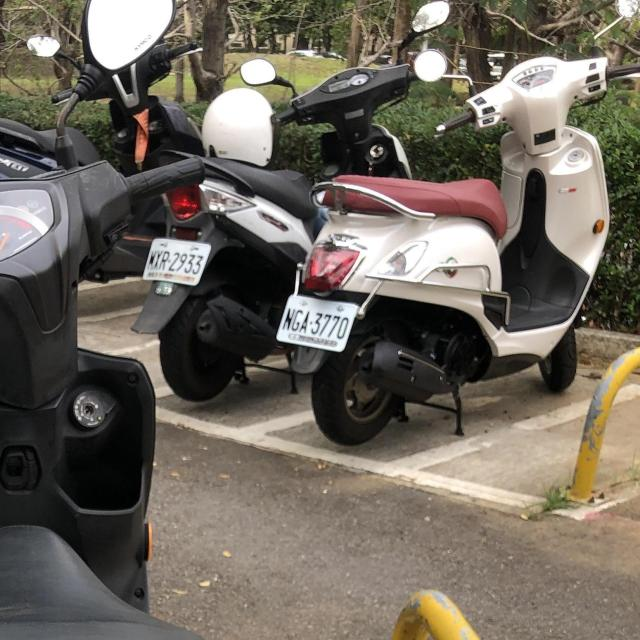W: (272, 286, 361, 358), (140, 231, 218, 289)
